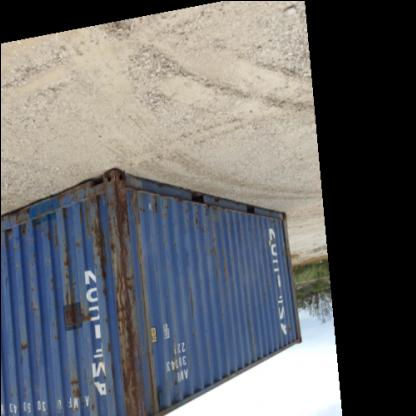Damage: (111, 188, 161, 412), (57, 238, 87, 330), (0, 206, 54, 247), (60, 370, 108, 413), (88, 190, 107, 298), (205, 234, 235, 292), (22, 286, 52, 322), (178, 206, 216, 234), (12, 337, 36, 363), (183, 289, 199, 325), (170, 374, 180, 398)
